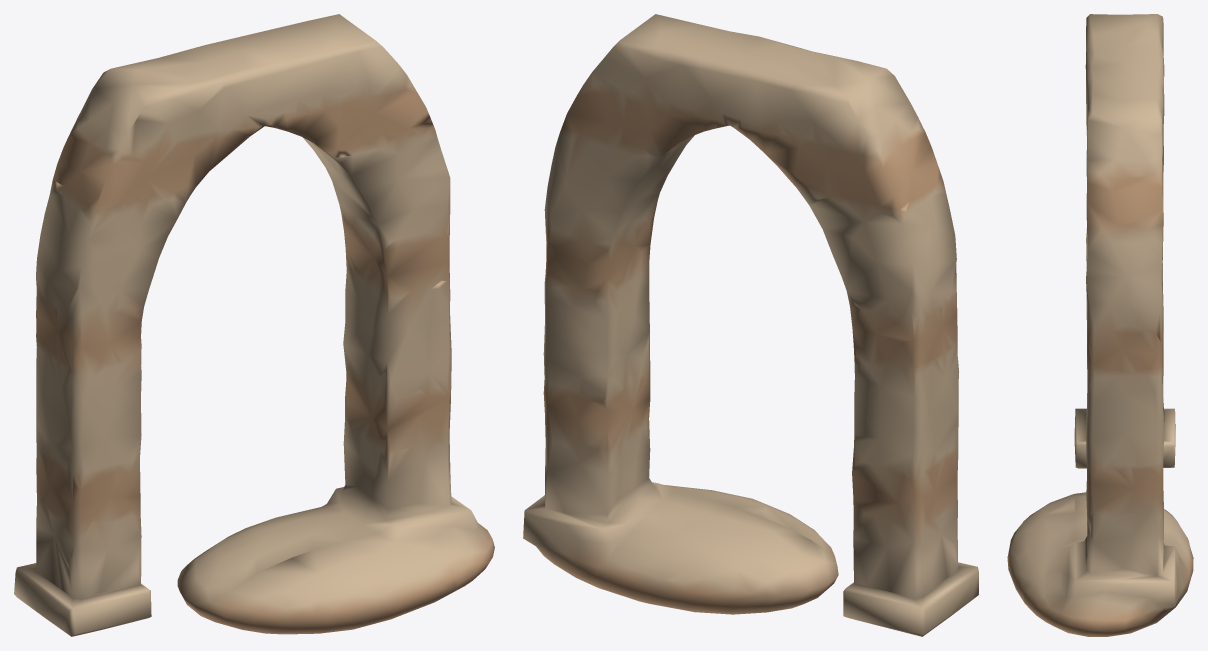
The model's file is arco.glb.
The picture shows the model from 3 angles, left to right: view 1: azimuth 30°, elevation 25°; view 2: azimuth 150°, elevation 25°; view 3: azimuth 270°, elevation 25°; orthographic projection. The views are drawn at different scales.
Visible parts, largest first — view 1: Arco; view 2: Arco; view 3: Arco.
Boxes of the visible parts, bbox=[...] form: Arco: bbox=[14, 14, 494, 636]; Arco: bbox=[523, 14, 978, 636]; Arco: bbox=[1007, 14, 1193, 636].
Bounding box in the file's own units: 10.44 × 13.15 × 4.42.
